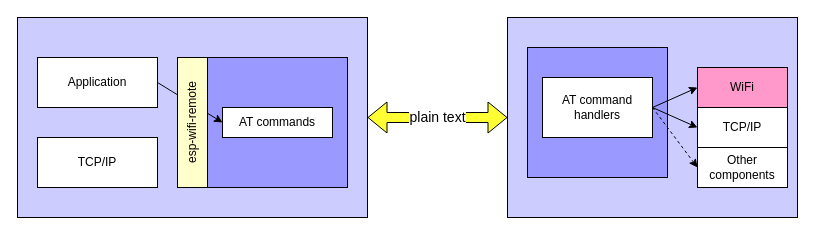
Image size: 815x235. Some labels were removed from this diagram. The shapes that lost their labels are listed below. From the top down, each one's box as (x1, y1, x2, y2) in pixels, then its label:
(16, 16, 368, 218): Host device
(206, 56, 348, 188): wrmt-over-at
(526, 46, 668, 178): ESP-AT
(506, 16, 798, 218): Slave device
